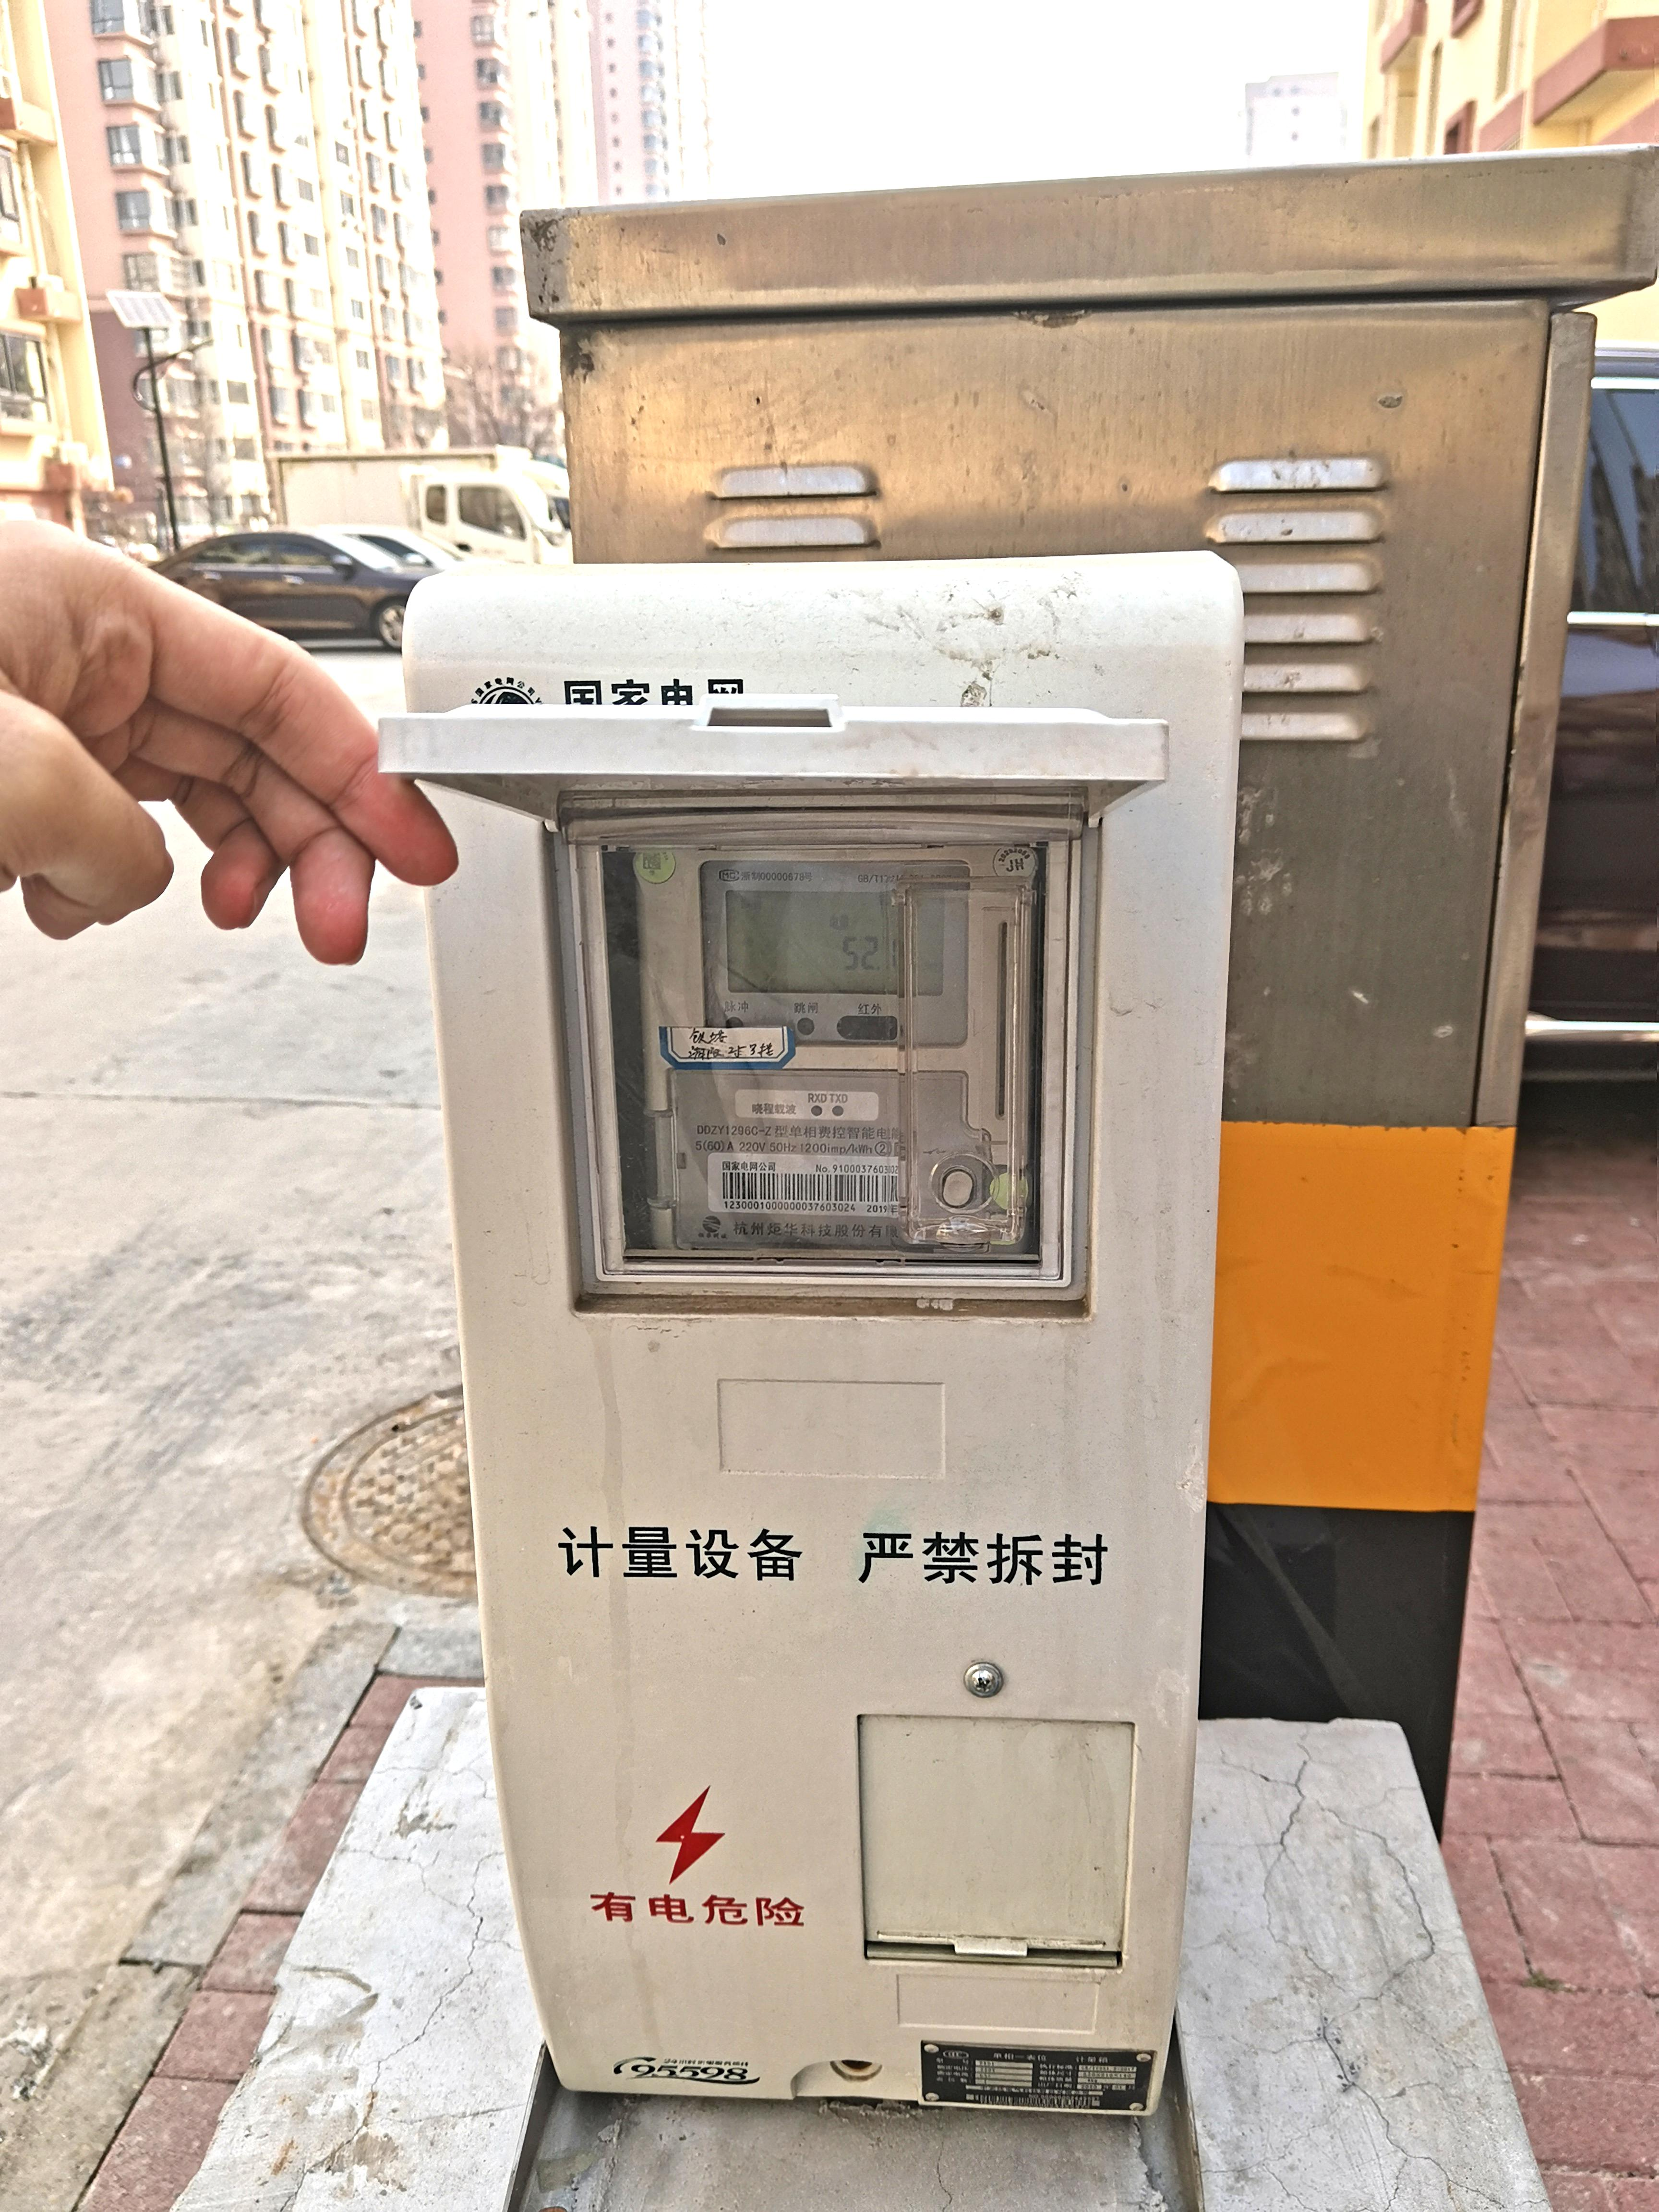digital: (626, 845, 1019, 1256)
